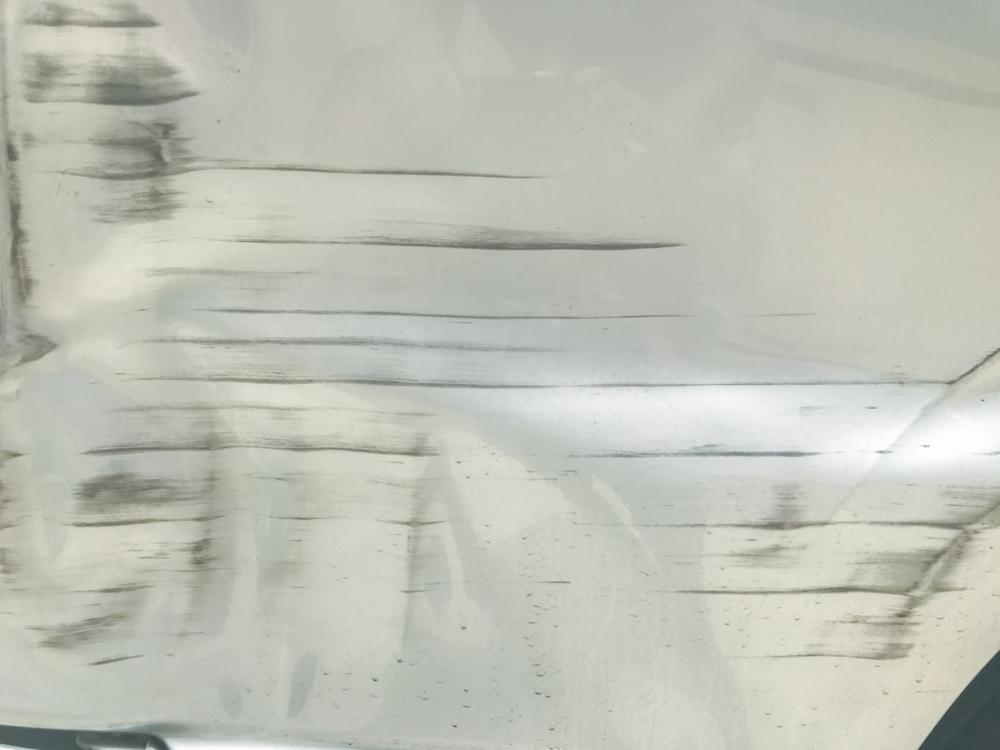dent: (0, 0, 1000, 750)
scratch: (578, 451, 1000, 672), (258, 156, 703, 263)
